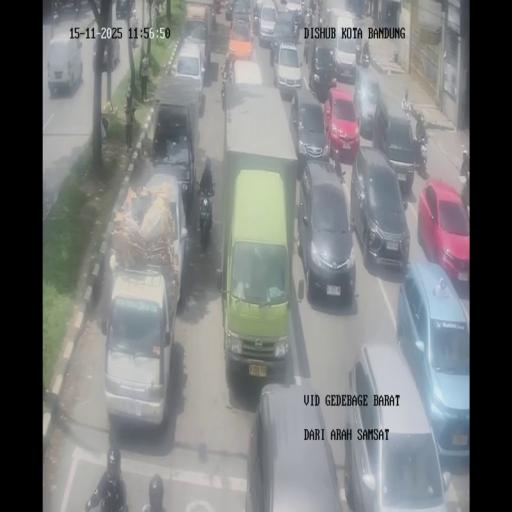car: (222, 169, 294, 379), (398, 263, 470, 462), (248, 382, 345, 510), (103, 267, 177, 428), (296, 161, 354, 303), (351, 148, 411, 272), (136, 172, 190, 304), (418, 179, 469, 286), (289, 84, 328, 177), (324, 85, 360, 164), (172, 42, 206, 112), (47, 33, 82, 96), (353, 64, 379, 136), (272, 41, 302, 96), (308, 44, 336, 100), (93, 20, 121, 70), (232, 58, 263, 91), (256, 3, 278, 45), (229, 0, 252, 28), (115, 0, 134, 19)
motorcycle: (197, 188, 213, 247), (413, 126, 428, 174), (220, 55, 234, 106), (398, 162, 411, 208), (408, 102, 425, 130), (460, 170, 470, 215), (334, 154, 346, 184), (303, 5, 314, 32), (293, 9, 302, 41), (210, 6, 218, 32), (361, 46, 370, 68), (354, 40, 362, 64), (303, 35, 309, 65), (269, 42, 276, 67), (253, 13, 260, 35), (53, 0, 60, 22), (225, 3, 233, 22), (73, 0, 81, 18), (362, 0, 370, 17), (316, 0, 323, 18), (300, 0, 307, 14)
truck: (331, 11, 360, 81)
